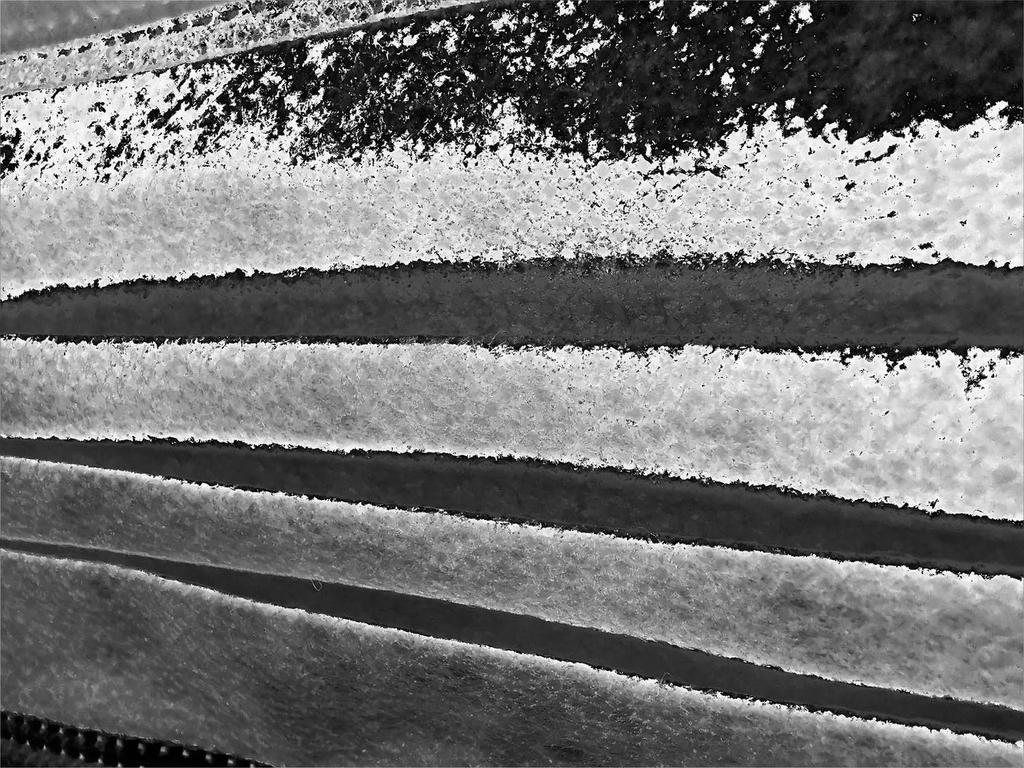High GSM: (2, 1, 1023, 765)
